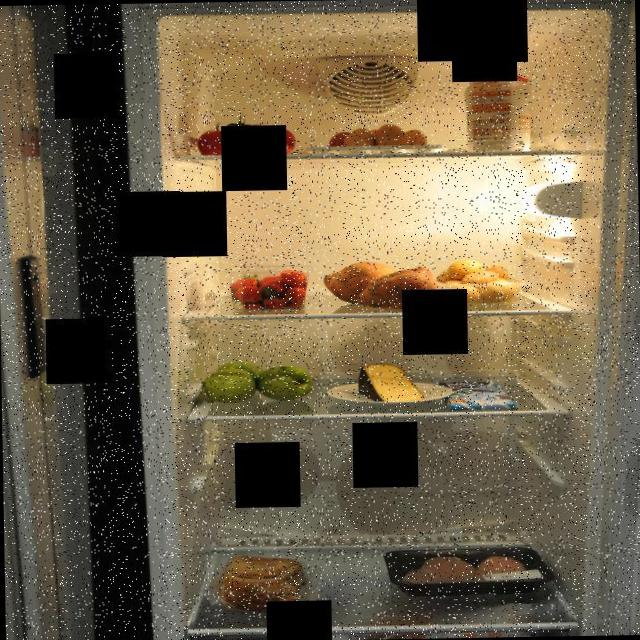Carne pollo: (379, 545, 562, 597)
Huevos: (326, 122, 431, 156)
Manzana: (200, 357, 315, 405)
Patata: (434, 255, 526, 307)
Queso: (351, 362, 429, 404)
Tomate: (194, 110, 298, 158)
